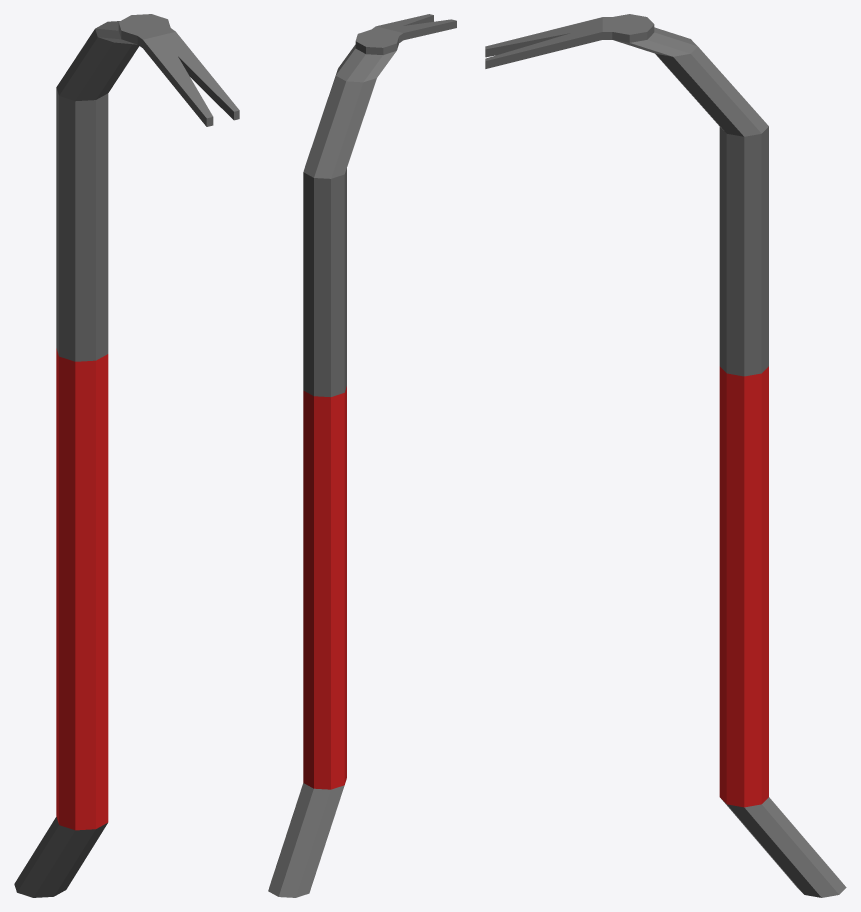
File: enemy-weapon-burglar.fbx
The picture shows the model from 3 angles, left to right: view 1: azimuth 30°, elevation 25°; view 2: azimuth 150°, elevation 25°; view 3: azimuth 270°, elevation 25°; orthographic projection. The views are drawn at different scales.
Visible parts, largest first — view 1: Cylinder; view 2: Cylinder; view 3: Cylinder.
Part boxes in pixels (<box>): Cylinder: <box>14,14,239,897</box>; Cylinder: <box>268,14,456,897</box>; Cylinder: <box>485,14,846,897</box>.
Bounding box in the file's own units: 2.86 × 54.99 × 20.86.
